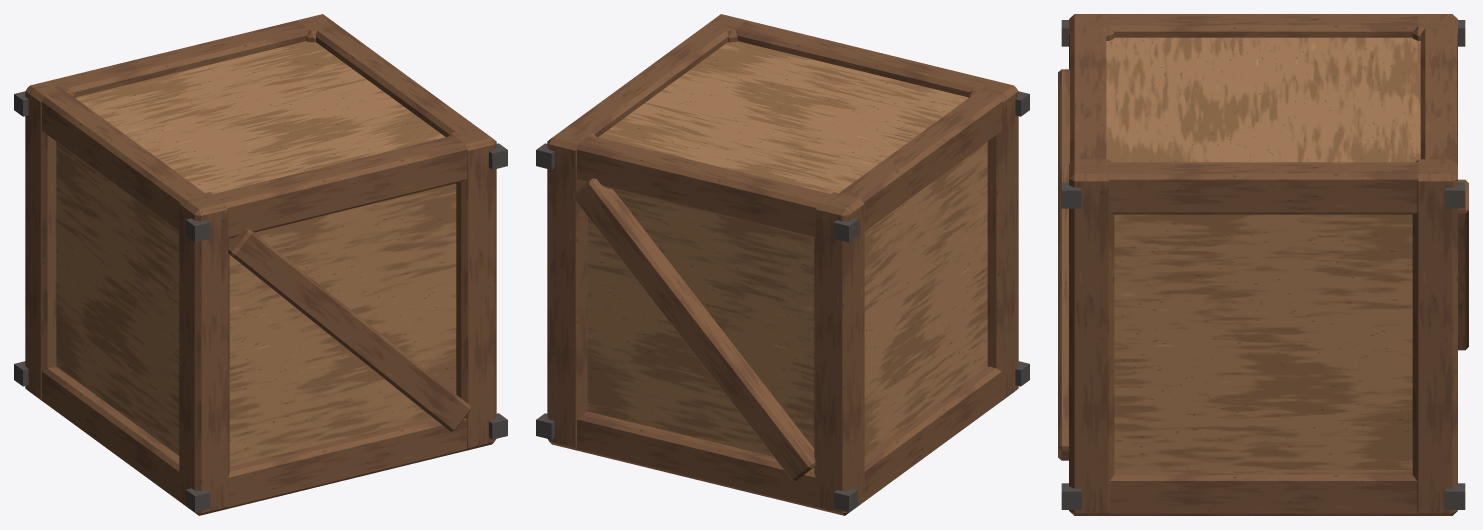
Rendered from ev_crate.glb.
3 views of the same model, side by side, from view 1: azimuth 30°, elevation 25°; view 2: azimuth 150°, elevation 25°; view 3: azimuth 270°, elevation 25° (orthographic). The views are drawn at different scales.
Parts seen in each view (by area): view 1: ev_crate_crate; view 2: ev_crate_crate; view 3: ev_crate_crate.
Part boxes in pixels (x1,y1,x2,y2): ev_crate_crate: (14, 14, 507, 515); ev_crate_crate: (536, 14, 1029, 515); ev_crate_crate: (1058, 14, 1468, 515).
Size of what is drawn, in the model's own units: 0.705 by 0.66 by 0.7175.
Materials: 3 (3 with a texture image).
